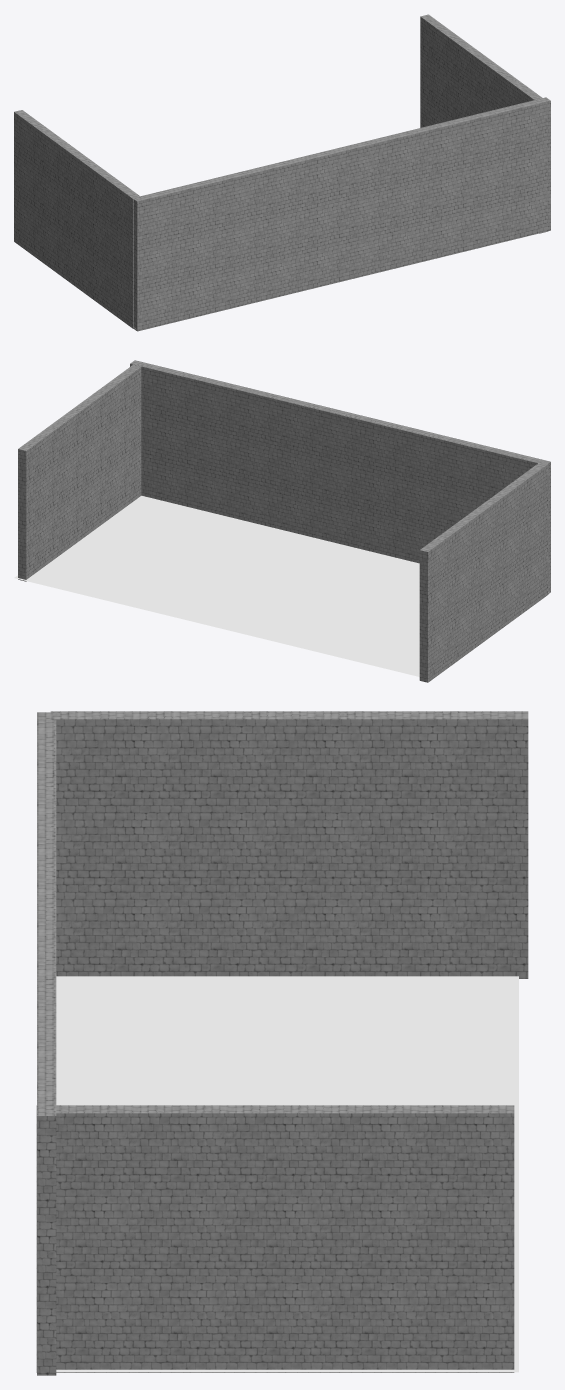
File: Gabriels_room_layout.fbx
3 views of the same model, one above another, from view 1: azimuth 30°, elevation 25°; view 2: azimuth 150°, elevation 25°; view 3: azimuth 270°, elevation 25° (orthographic). The views are drawn at different scales.
Visible parts, largest first — view 1: Cube__2_, Cube__1_, Cube; view 2: Cube__2_, Plane__1_, Cube__1_, Cube; view 3: Cube__1_, Cube, Plane__1_, Cube__2_.
Boxes of the visible parts, x1,y1,x2,y2 form: Cube__2_: [134, 97, 550, 331]; Cube__1_: [14, 110, 141, 328]; Cube: [420, 14, 547, 233]; Cube__2_: [130, 360, 550, 593]; Plane__1_: [14, 495, 548, 676]; Cube__1_: [419, 462, 548, 682]; Cube: [18, 364, 141, 581]; Cube__1_: [50, 711, 528, 978]; Cube: [36, 1105, 514, 1372]; Plane__1_: [56, 976, 518, 1372]; Cube__2_: [37, 712, 56, 1375].
Bounding box in the file's own units: 1001 × 301 × 515.
Materials: 2 (1 with a texture image).
